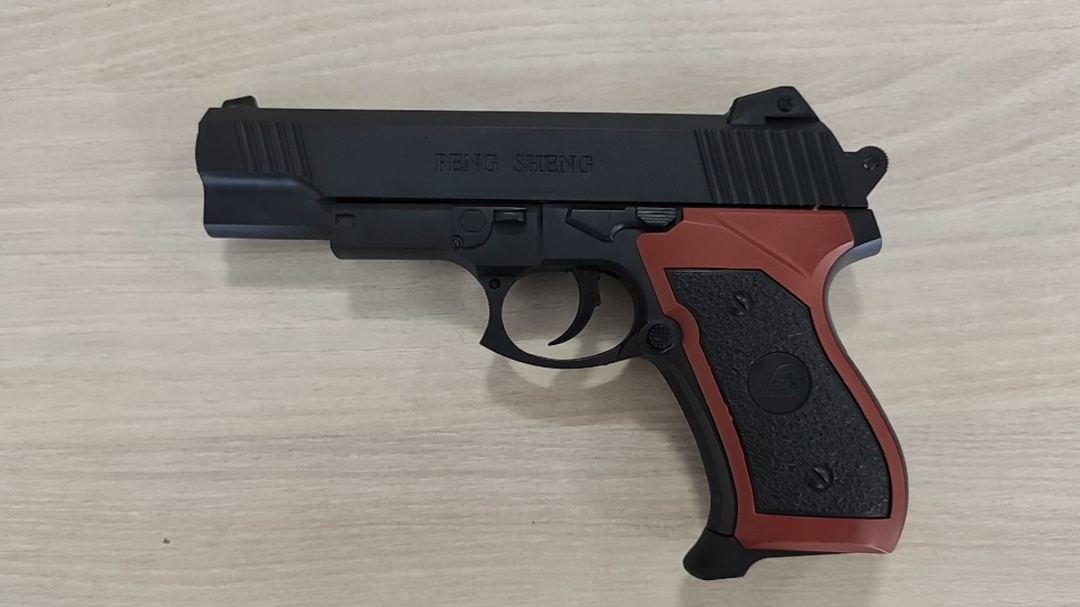gun: (453, 201, 592, 304)
